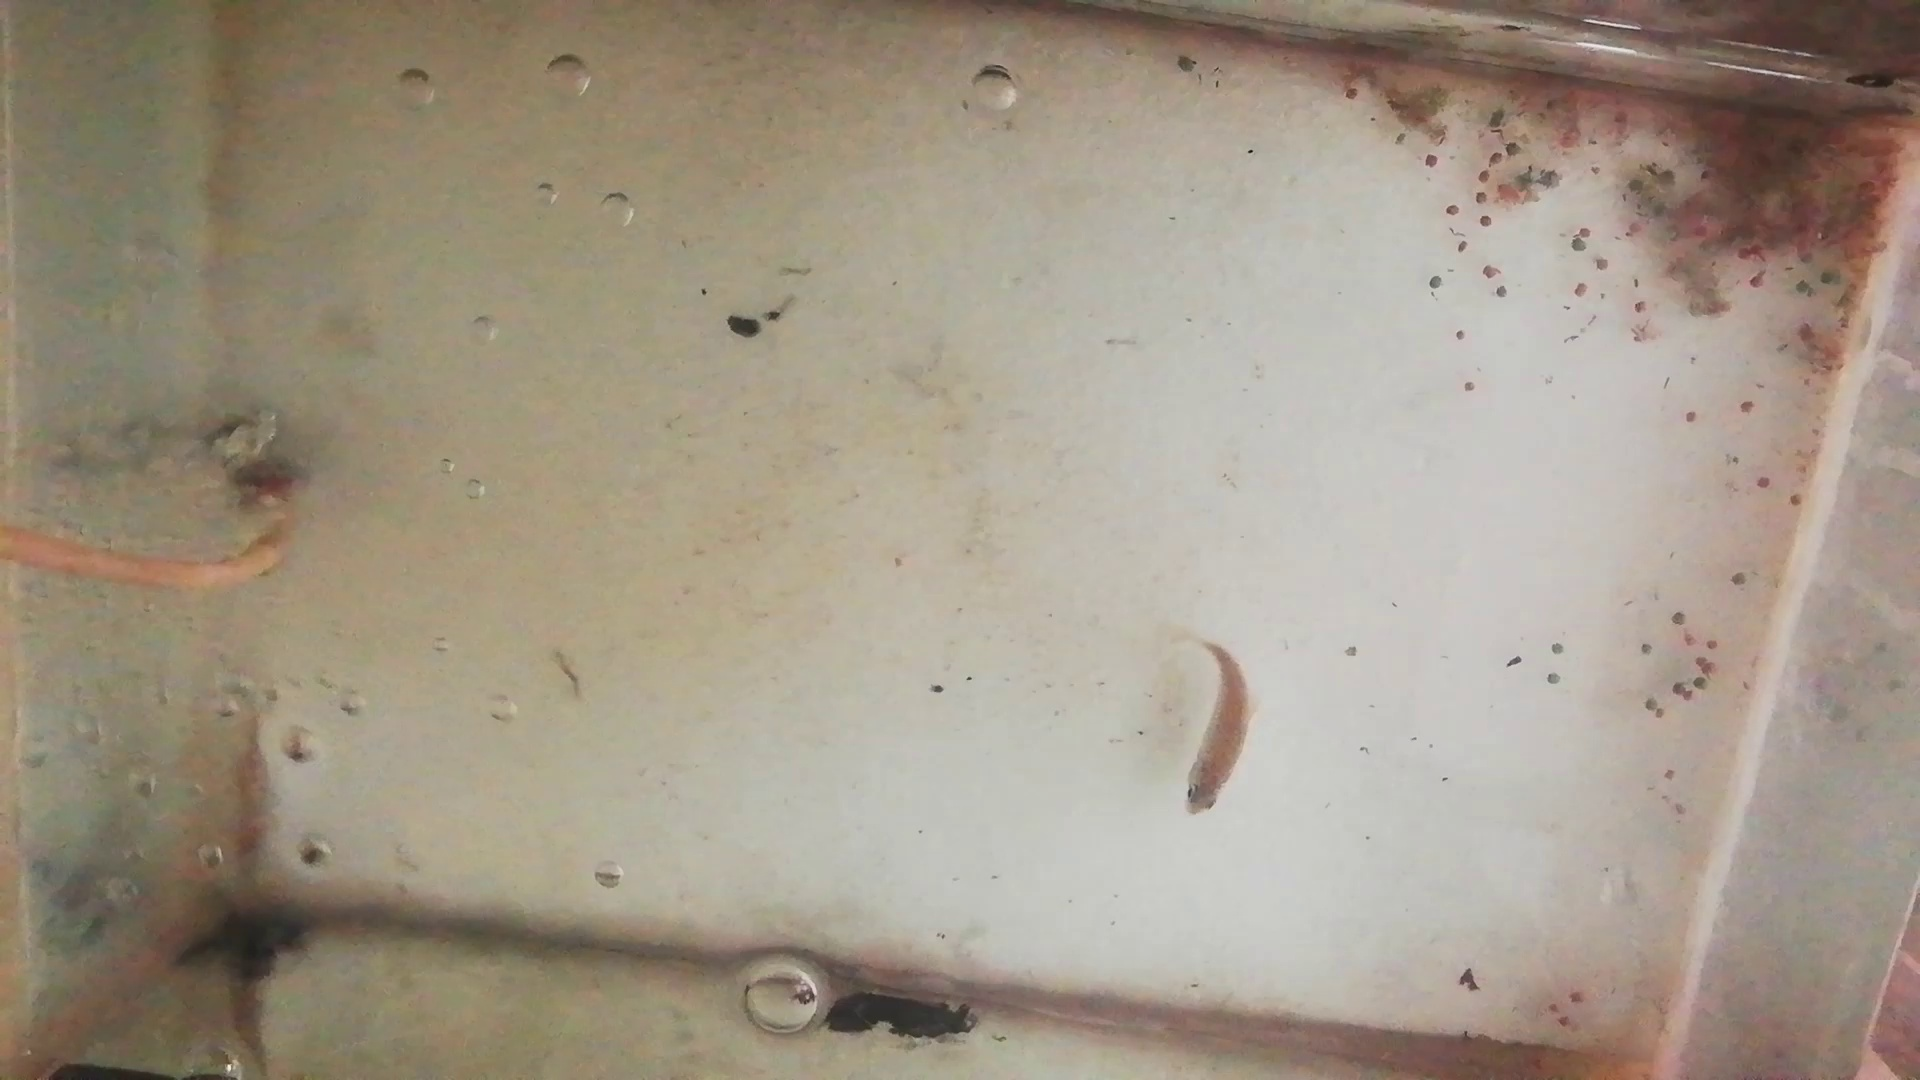fish: (1185, 640, 1251, 819), (229, 711, 277, 902)
